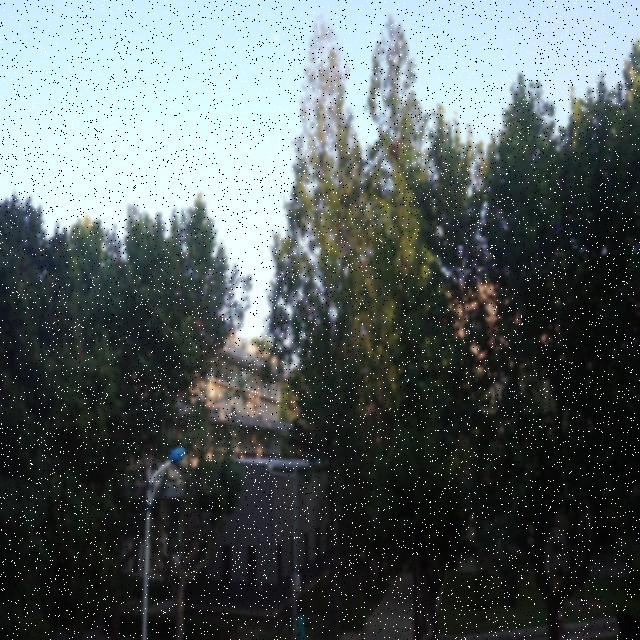UAV: (341, 243, 352, 251)
